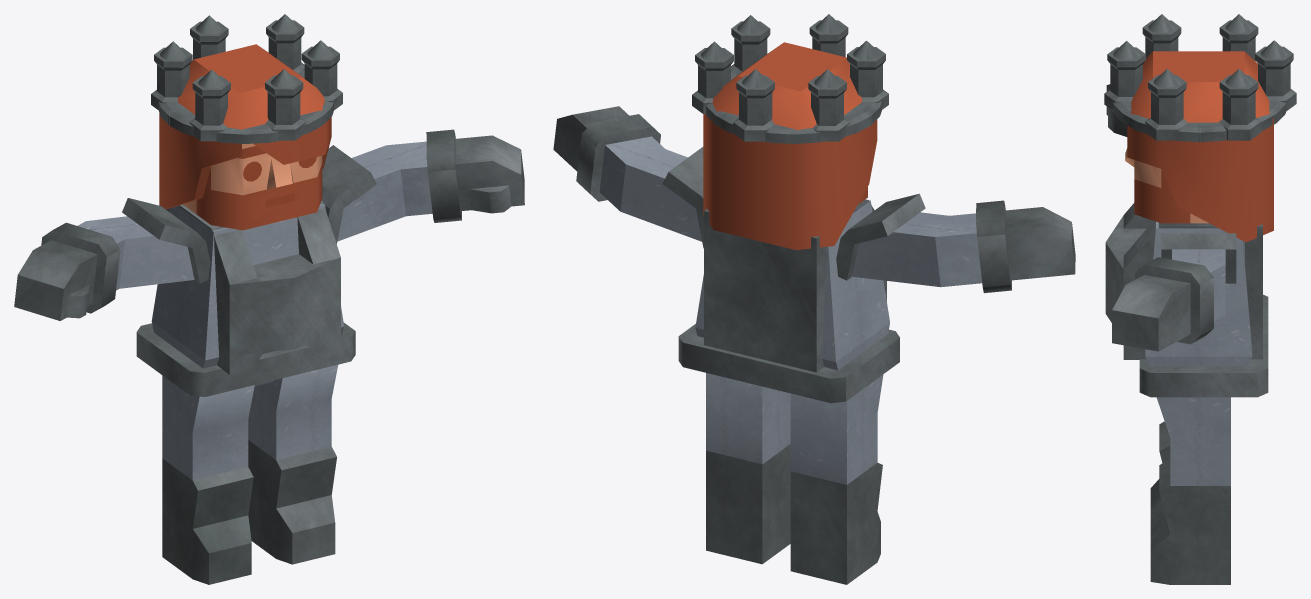
File: King.fbx
3 views of the same model, side by side, from view 1: azimuth 30°, elevation 25°; view 2: azimuth 150°, elevation 25°; view 3: azimuth 270°, elevation 25° (orthographic).
Parts seen in each view (by area): view 1: leg_boots (×2), arm_glove (×2), armor_torso, hair_long, column_round (×6), head_default, torso_default, belt_default, arch_half; view 2: leg_boots (×2), arm_glove (×2), hair_long, armor_torso, column_round (×6), belt_default, torso_default, arch_half; view 3: hair_long, leg_boots (×2), arm_glove (×2), column_round (×6), armor_torso, torso_default, belt_default, head_default, arch_half (×2), cone (×6).
Part boxes in pixels (x1,y1,x2,y2): leg_boots (×2): [162, 344, 337, 584]; arm_glove (×2): [14, 129, 524, 320]; armor_torso: [166, 200, 340, 374]; hair_long: [159, 44, 331, 209]; column_round (×6): [151, 20, 342, 141]; head_default: [183, 143, 322, 230]; torso_default: [151, 204, 344, 386]; belt_default: [136, 322, 355, 396]; arch_half: [168, 109, 279, 143]; leg_boots (×2): [706, 373, 883, 584]; arm_glove (×2): [553, 106, 1075, 293]; hair_long: [703, 42, 877, 250]; armor_torso: [704, 199, 886, 372]; column_round (×6): [692, 20, 888, 141]; belt_default: [678, 324, 899, 403]; torso_default: [695, 199, 889, 370]; arch_half: [765, 109, 872, 143]; hair_long: [1127, 51, 1273, 242]; leg_boots (×2): [1150, 357, 1230, 584]; arm_glove (×2): [1106, 84, 1236, 351]; column_round (×6): [1104, 20, 1296, 140]; armor_torso: [1105, 203, 1262, 359]; torso_default: [1145, 221, 1252, 366]; belt_default: [1139, 294, 1268, 397]; head_default: [1125, 148, 1208, 223]; arch_half (×2): [1113, 101, 1285, 142]; cone (×6): [1113, 14, 1287, 87].
Bounding box in the file's own units: 11.07 × 10.5 × 3.58.
7 materials, 3 textured.
